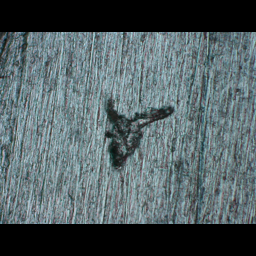d: (101, 94, 177, 171)
